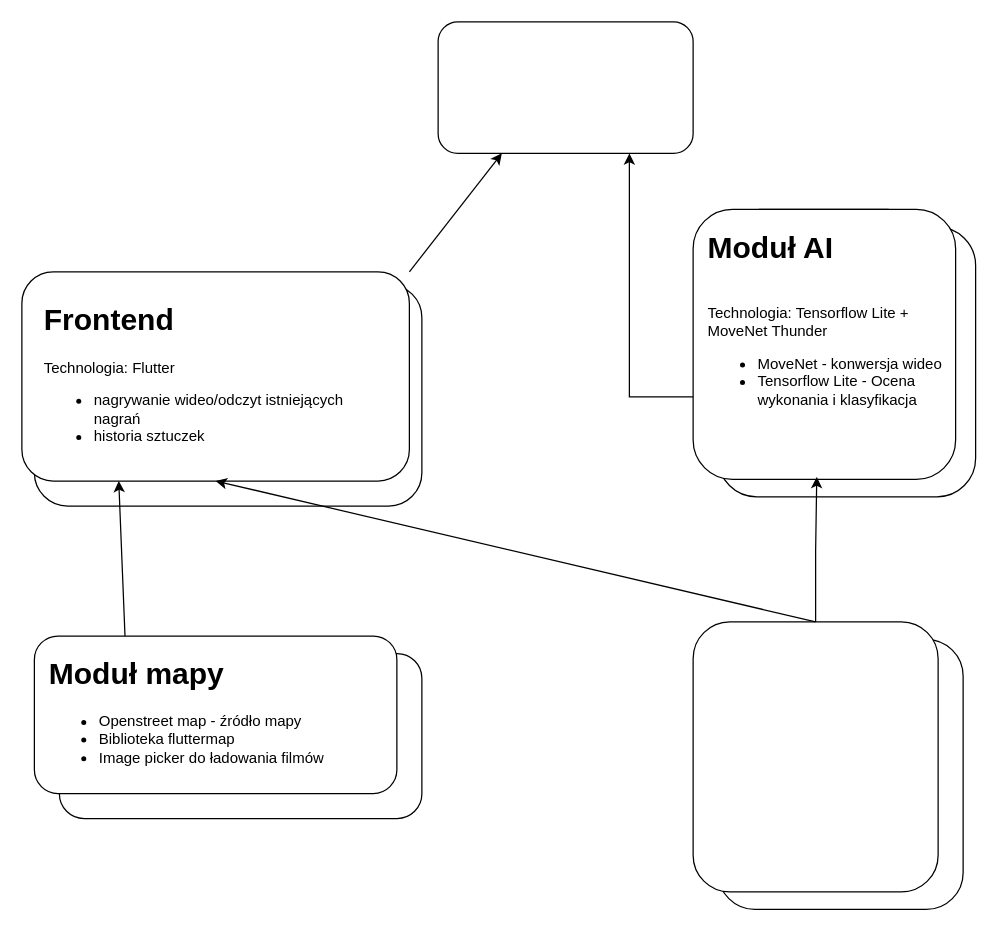
This 998x931 diagram has some shape labels left out. Each missing label, with the centre of its shape:
"Aplikacja Mobilna" goes at pixel 565 87.
"Moduł aparatu Flutter camera do nagrywania Image picker do ładowania filmów" goes at pixel 815 756.
